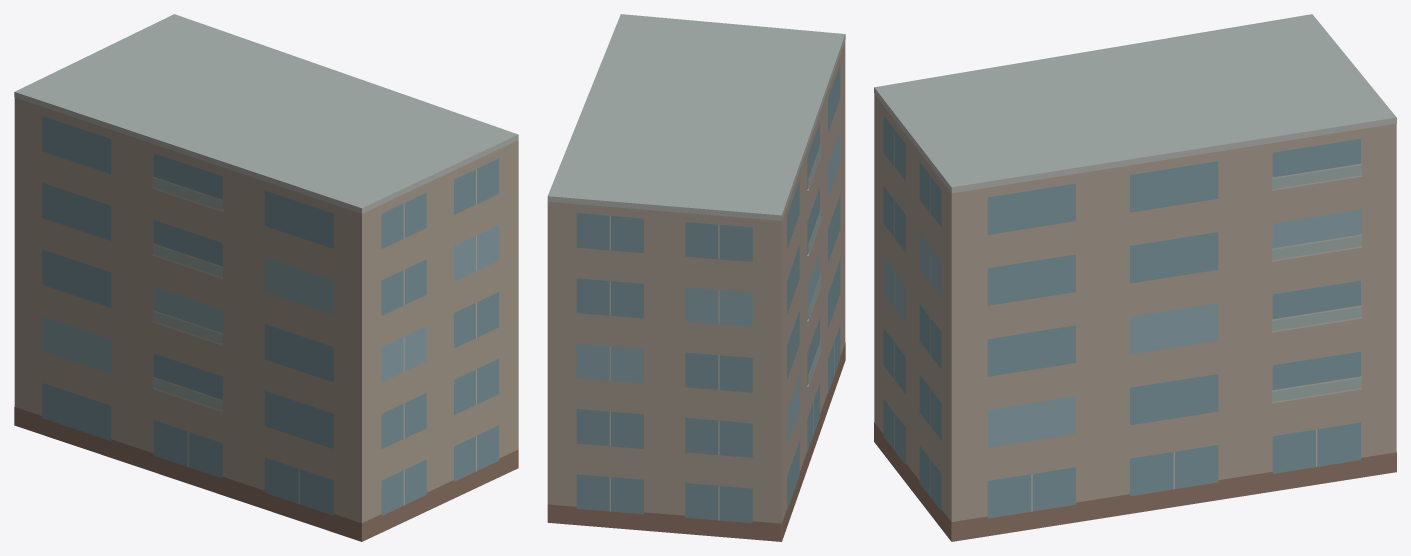
File: survey-upis-32575309.glb
3 views of the same model, side by side, from view 1: azimuth 30°, elevation 25°; view 2: azimuth 150°, elevation 25°; view 3: azimuth 270°, elevation 25° (orthographic). The views are drawn at different scales.
Visible parts, largest first — view 1: survey-upis-32575309.tmp; view 2: survey-upis-32575309.tmp; view 3: survey-upis-32575309.tmp.
Boxes of the visible parts, x1,y1,x2,y2 form: survey-upis-32575309.tmp: [14, 14, 518, 541]; survey-upis-32575309.tmp: [547, 14, 845, 541]; survey-upis-32575309.tmp: [874, 14, 1396, 541].
Bounding box in the file's own units: 15.11 × 14.4 × 19.25.
